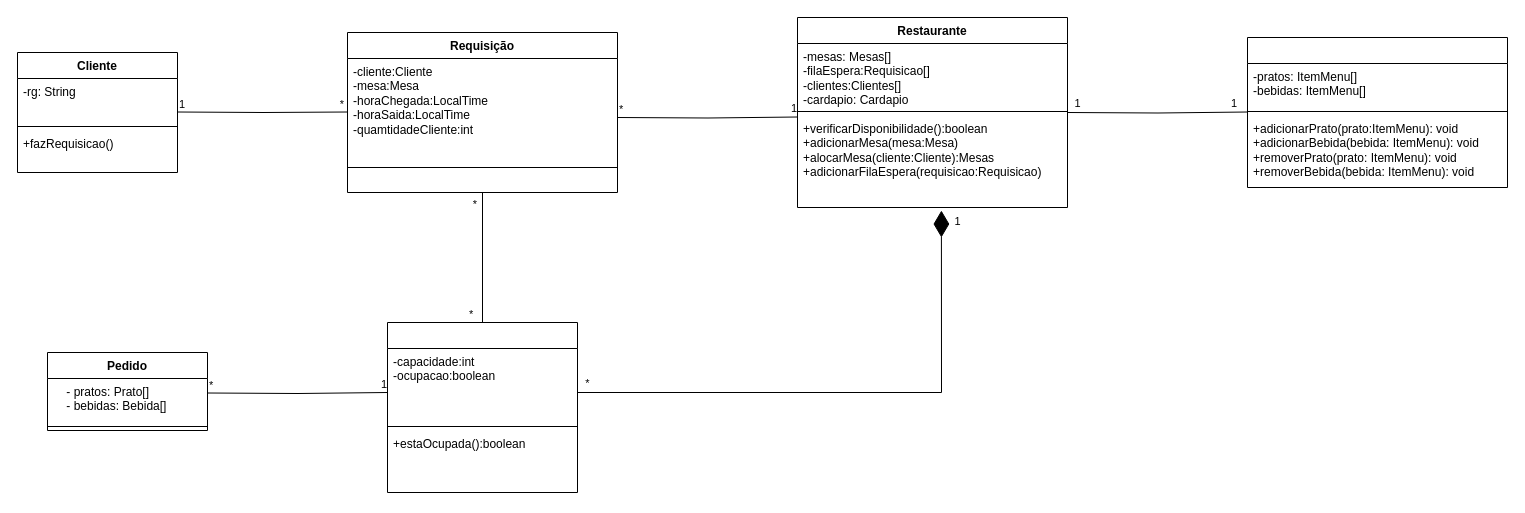
The diagram is 1525 pixels wide and 513 high, and some of its shapes have lost their labels. The box of each missing label's shape, as (x1, y1, x2, y2) in pixels:
Cardapio: (1246, 36, 1508, 188)
Mesa: (386, 322, 578, 492)
